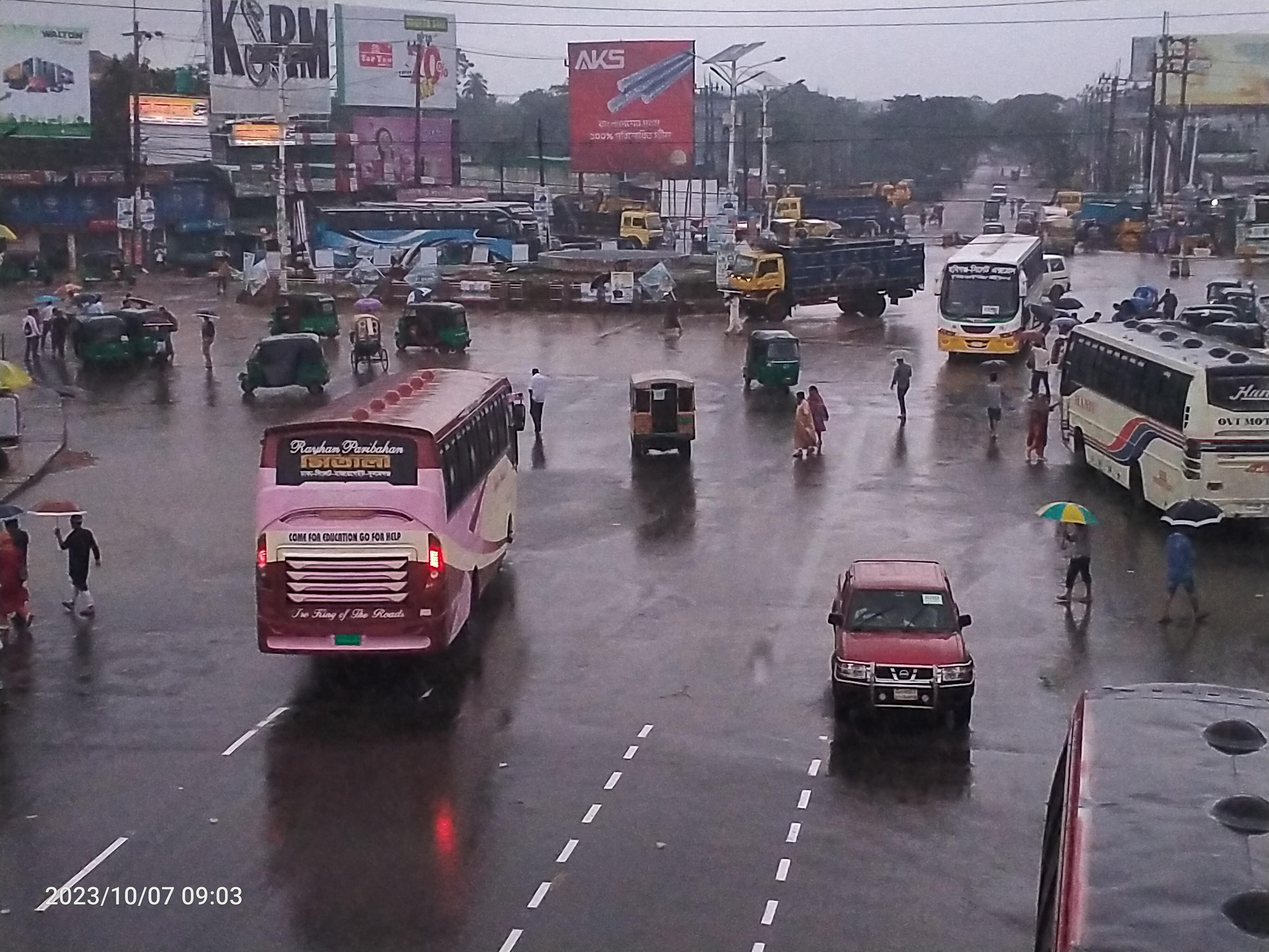Bus: (230, 347, 561, 686), (1006, 630, 1269, 952), (1020, 293, 1269, 553), (281, 176, 551, 290), (926, 225, 1059, 382), (1218, 162, 1269, 285)
Car: (757, 493, 1000, 770), (598, 366, 739, 499), (337, 296, 399, 384), (1032, 248, 1089, 303)
Truck: (698, 226, 938, 340), (559, 195, 678, 263), (758, 187, 922, 235), (1047, 184, 1162, 239)
